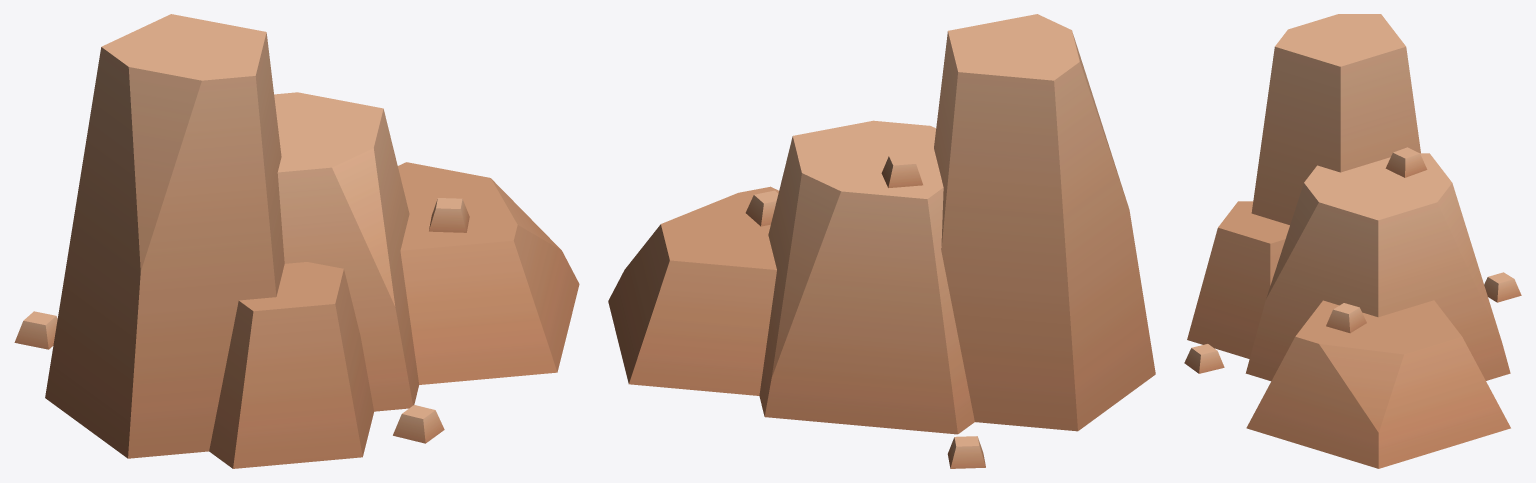
Rendered from kenney-survival-rock-sand-c.glb.
3 views of the same model, side by side, from view 1: azimuth 30°, elevation 25°; view 2: azimuth 150°, elevation 25°; view 3: azimuth 270°, elevation 25° (orthographic). The views are drawn at different scales.
Visible parts, largest first — view 1: rock-sand-c; view 2: rock-sand-c; view 3: rock-sand-c.
Boxes of the visible parts, box(x1,y1,x2,y2) form: rock-sand-c: box(14, 14, 579, 468); rock-sand-c: box(608, 14, 1155, 468); rock-sand-c: box(1184, 14, 1521, 468).
Bounding box in the file's own units: 0.7837 × 0.51 × 0.5691.
Materials: 1 (1 with a texture image).
